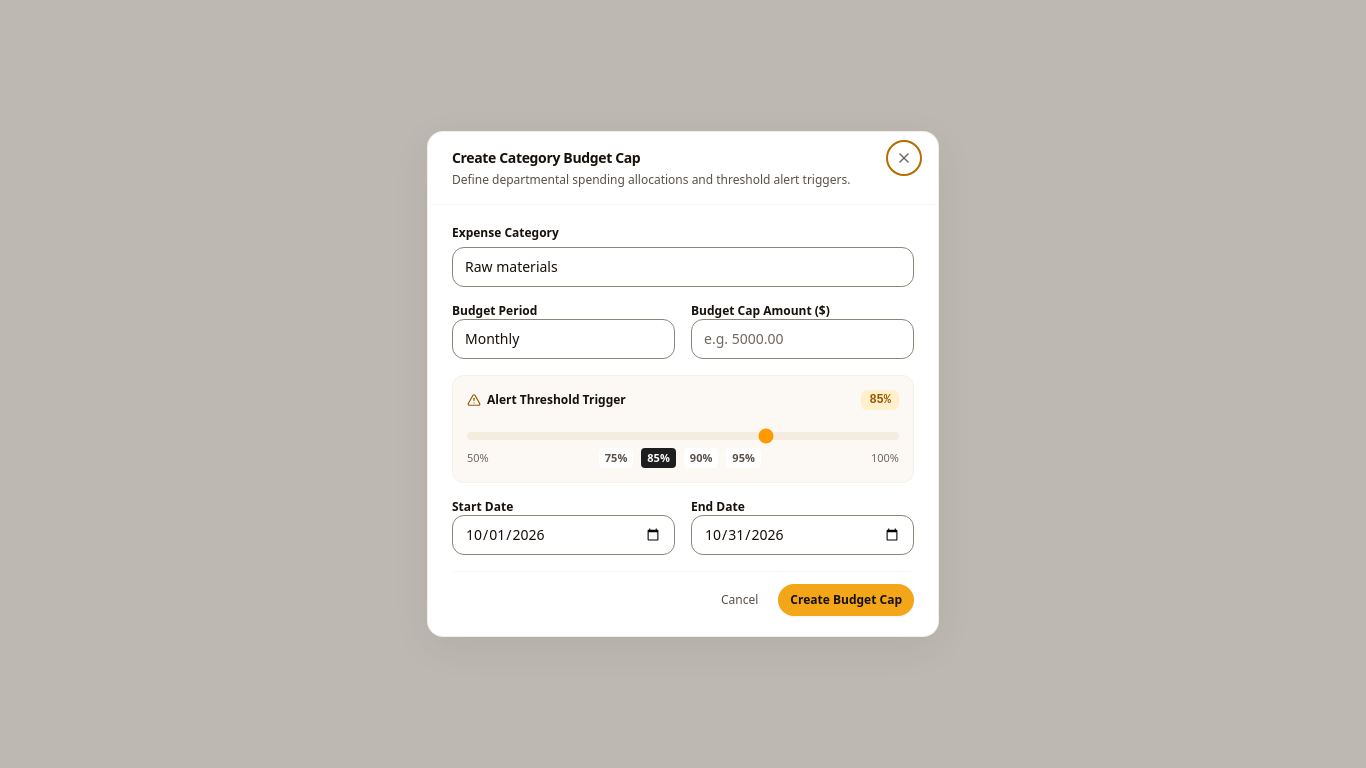
Scenario: CreateBudgetModal Component › shows error if budget amount is zero or negative
Type "0" into the number field with test id "input-budget-amount" at (802, 339), box left=691, top=319, right=914, bottom=359
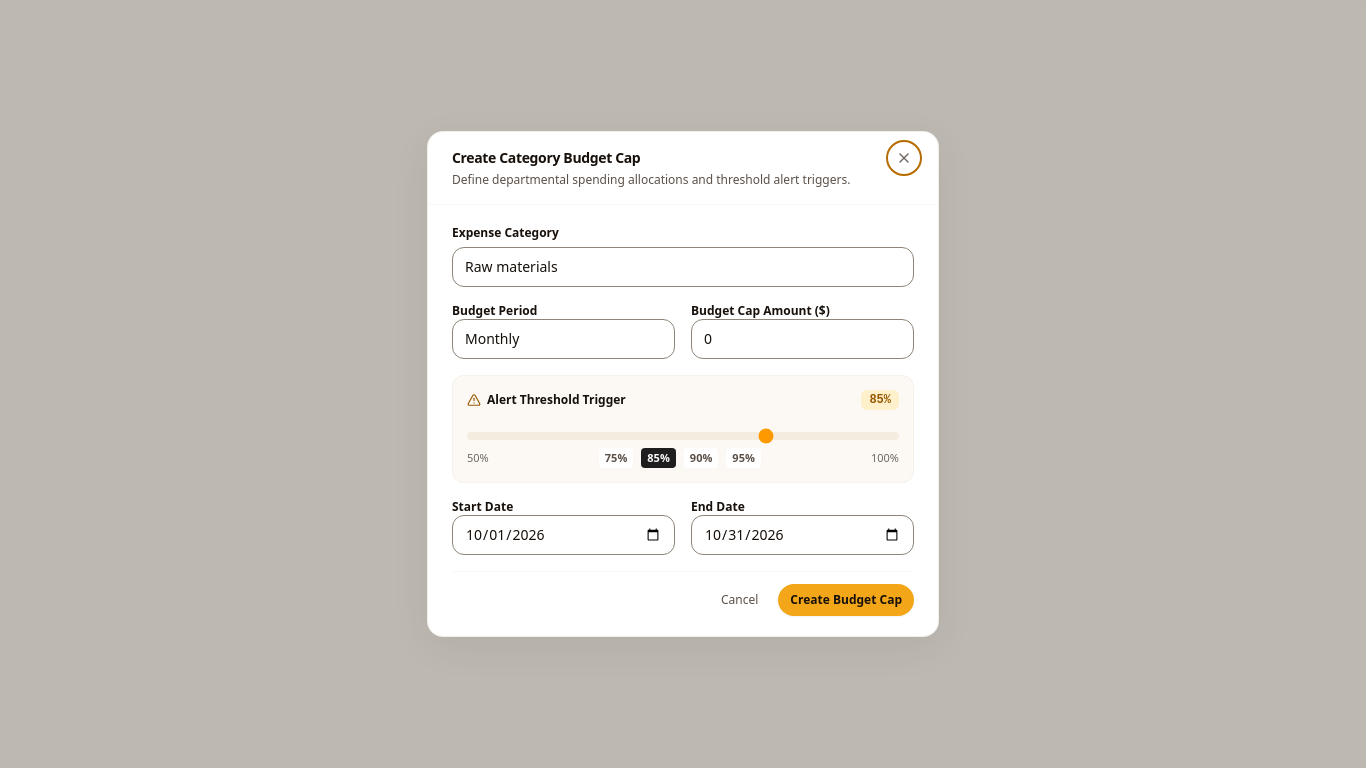
Click the button with test id "btn-submit-budget" at (846, 600), box left=778, top=584, right=914, bottom=616
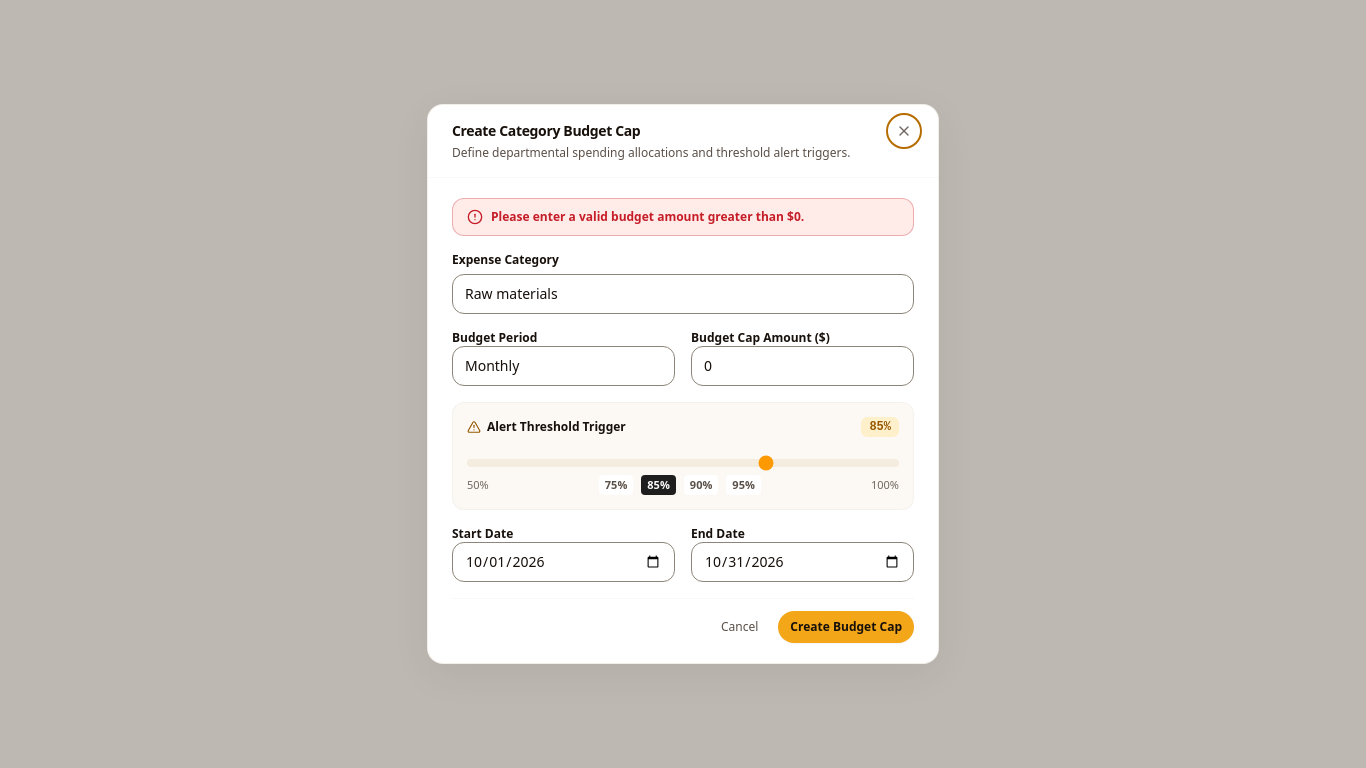
Now the element with test id "budget-form-error" is shown, box left=452, top=198, right=914, bottom=236
